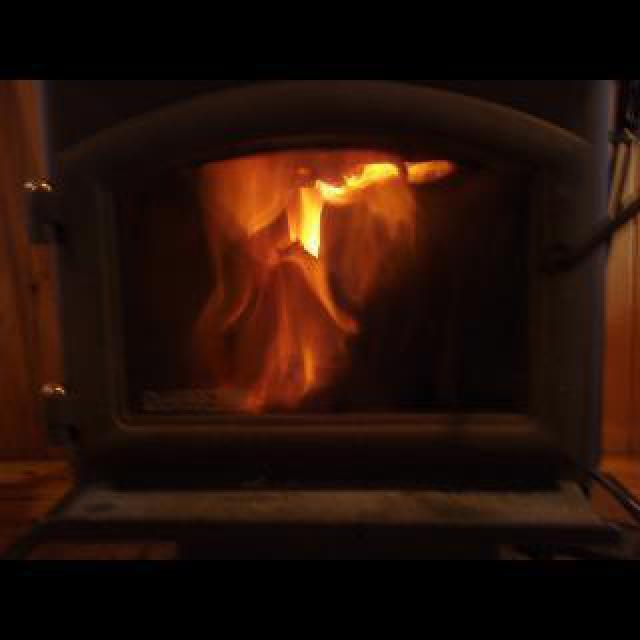Fire: (216, 152, 446, 402)
